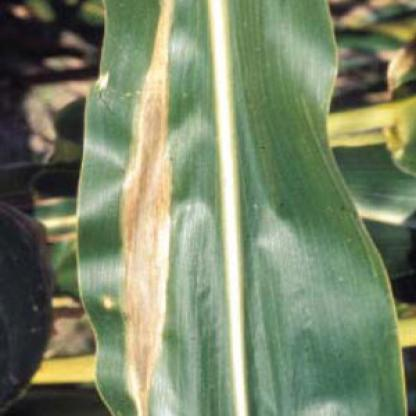corn leaf blight: (79, 2, 380, 415)
